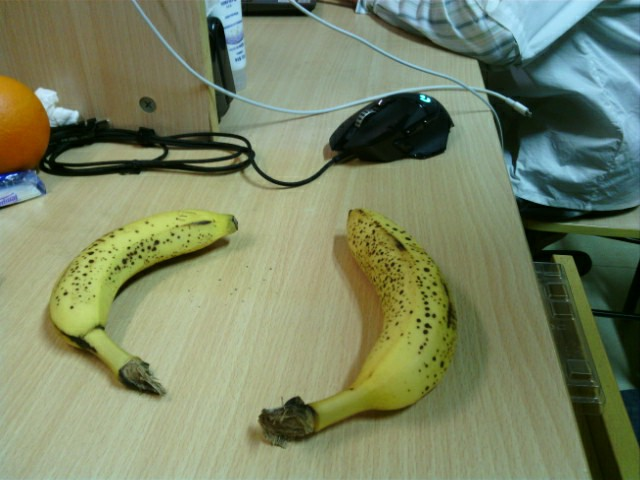normal_banana: (260, 206, 452, 446), (47, 208, 239, 399)
